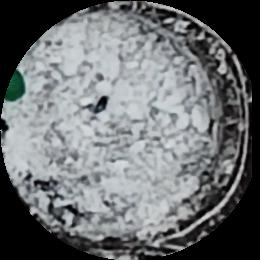Nothing: (1, 0, 260, 260)
